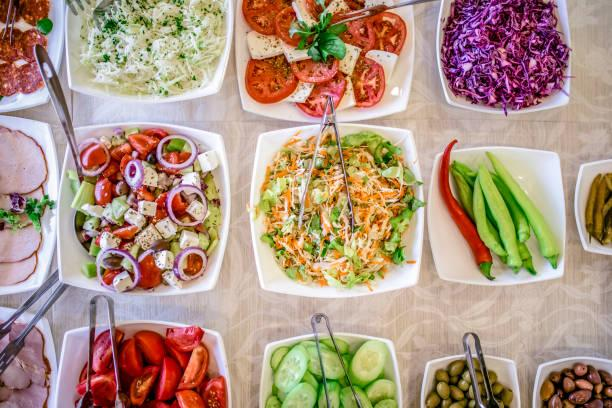Braised Crucian Carp: (248, 122, 420, 296), (54, 122, 224, 294), (234, 0, 410, 124), (428, 145, 569, 288), (64, 2, 229, 103), (436, 0, 575, 115), (57, 321, 234, 408), (257, 331, 403, 408)
